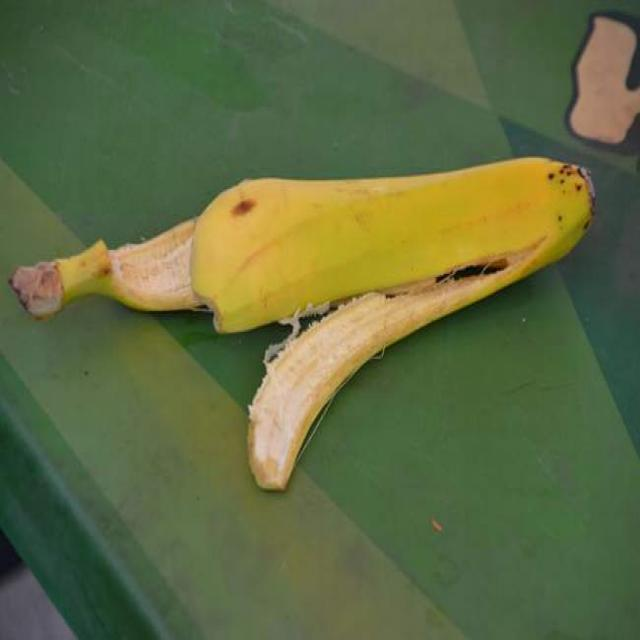banana-peel: (8, 152, 596, 491)
